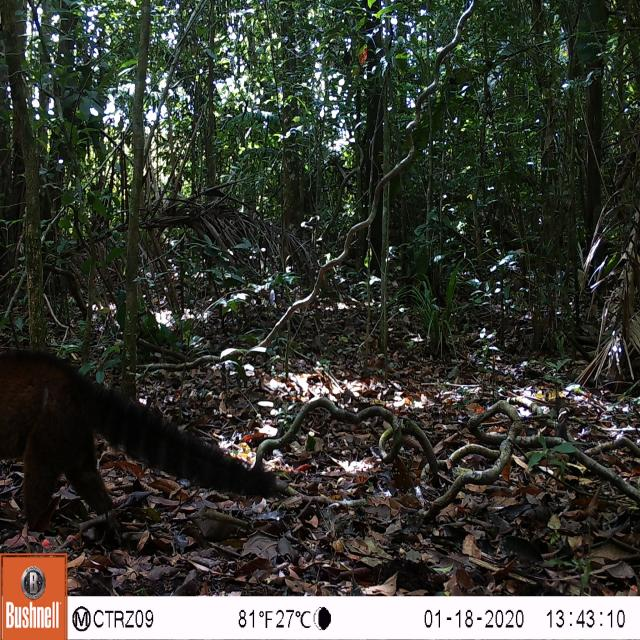South American Coati: (0, 336, 295, 528)
